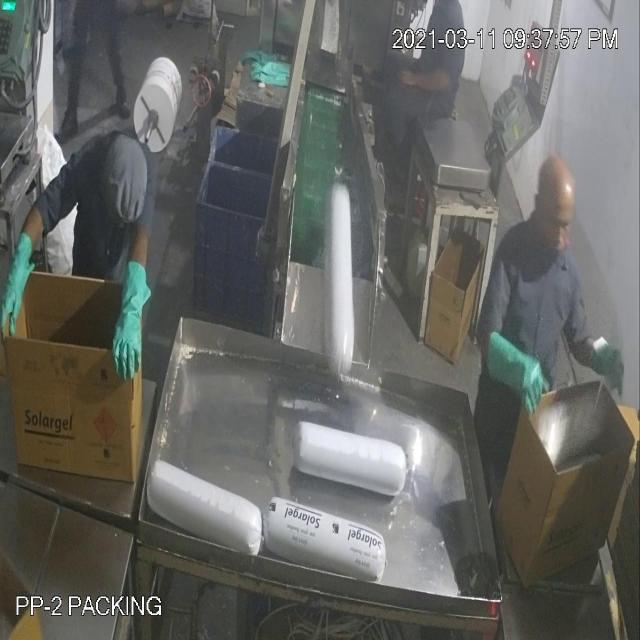No_Gloves: (17, 41, 611, 374)
